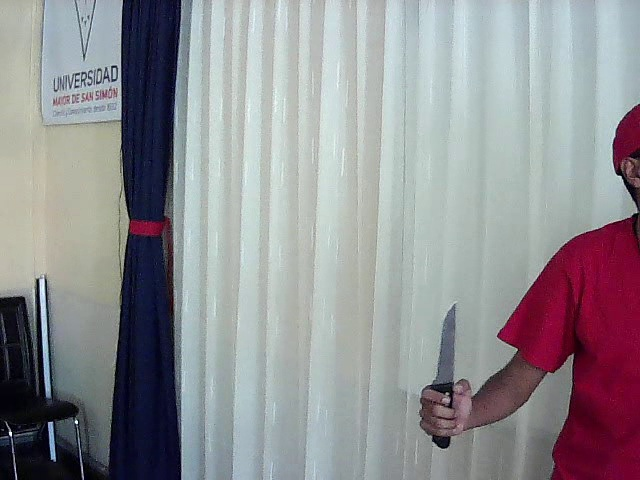cuchillo: (422, 291, 467, 409)
